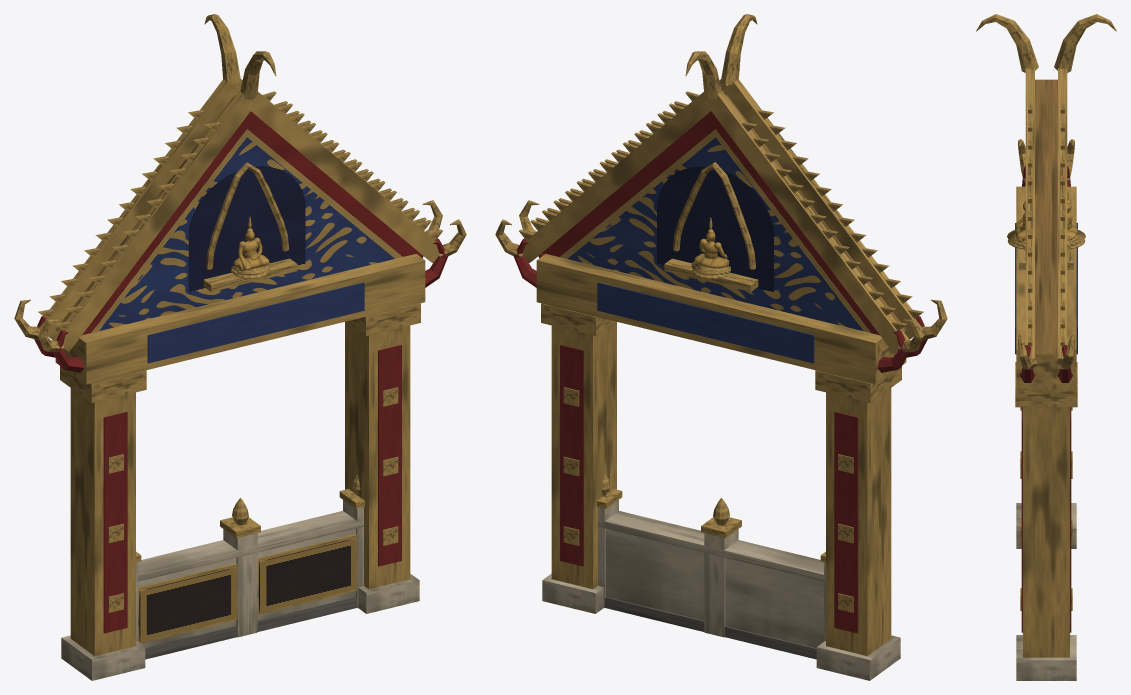
Rendered from TempleGate.fbx.
The picture shows the model from 3 angles, left to right: view 1: azimuth 30°, elevation 25°; view 2: azimuth 150°, elevation 25°; view 3: azimuth 270°, elevation 25°; orthographic projection.
Visible parts, largest first — view 1: TempleGate, TempleNameSign, TempleNameSign_Plaque, TempleGate_Buddha; view 2: TempleGate, TempleNameSign, TempleGate_Buddha; view 3: TempleGate, TempleGate_Buddha.
Boxes of the visible parts, box(x1,y1,x2,y2) form: TempleGate: box(14, 14, 466, 680); TempleNameSign: box(136, 474, 364, 659); TempleNameSign_Plaque: box(139, 538, 356, 641); TempleGate_Buddha: box(231, 217, 270, 278); TempleGate: box(495, 14, 947, 680); TempleNameSign: box(597, 474, 825, 659); TempleGate_Buddha: box(691, 217, 730, 278); TempleGate: box(976, 14, 1116, 680); TempleGate_Buddha: box(1007, 188, 1085, 249).
Bounding box in the file's own units: 720 × 961 × 209.
1 material, 1 textured.
